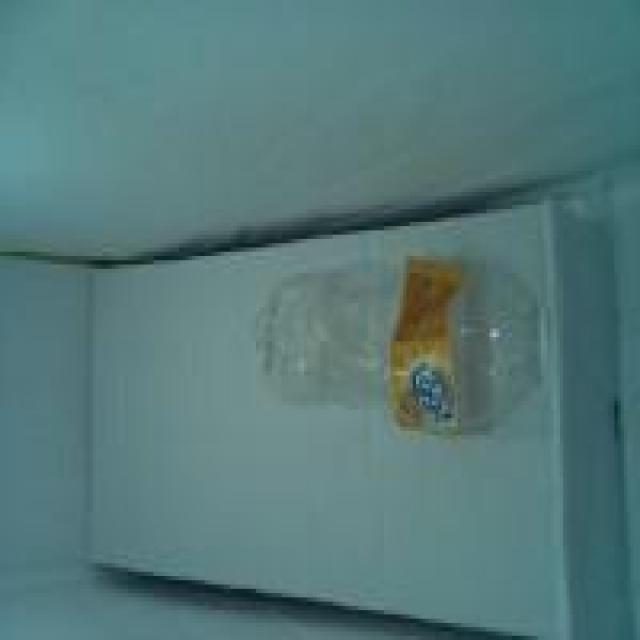bottle: (260, 253, 555, 438)
